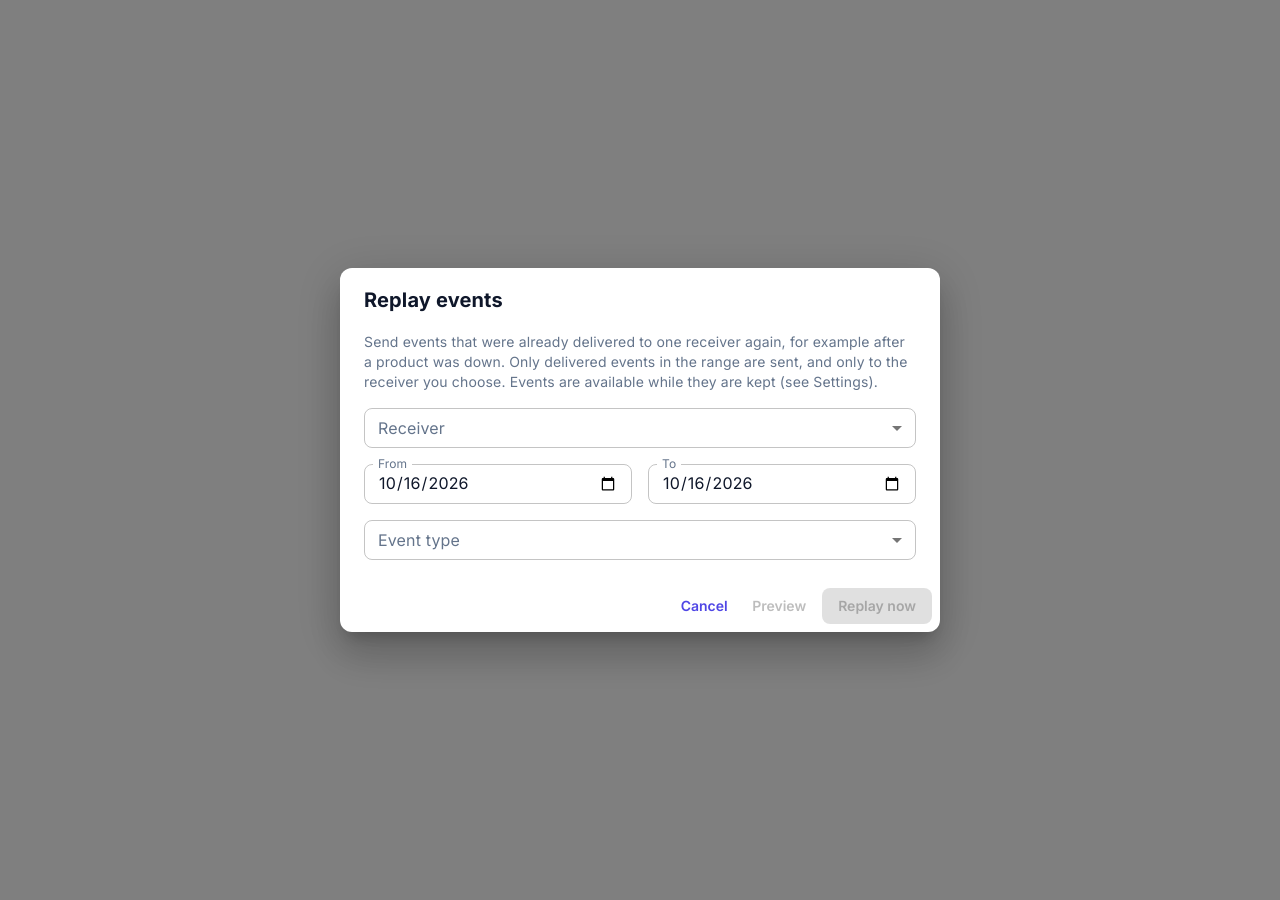
Scenario: EventReplayDialog › previews the size of a replay and then sends it to the chosen receiver
Expected: the button "Replay now" is disabled, [822,588,932,624]
Click the 1st dropdown named "Receiver" at (640, 428), box [364,408,916,448]
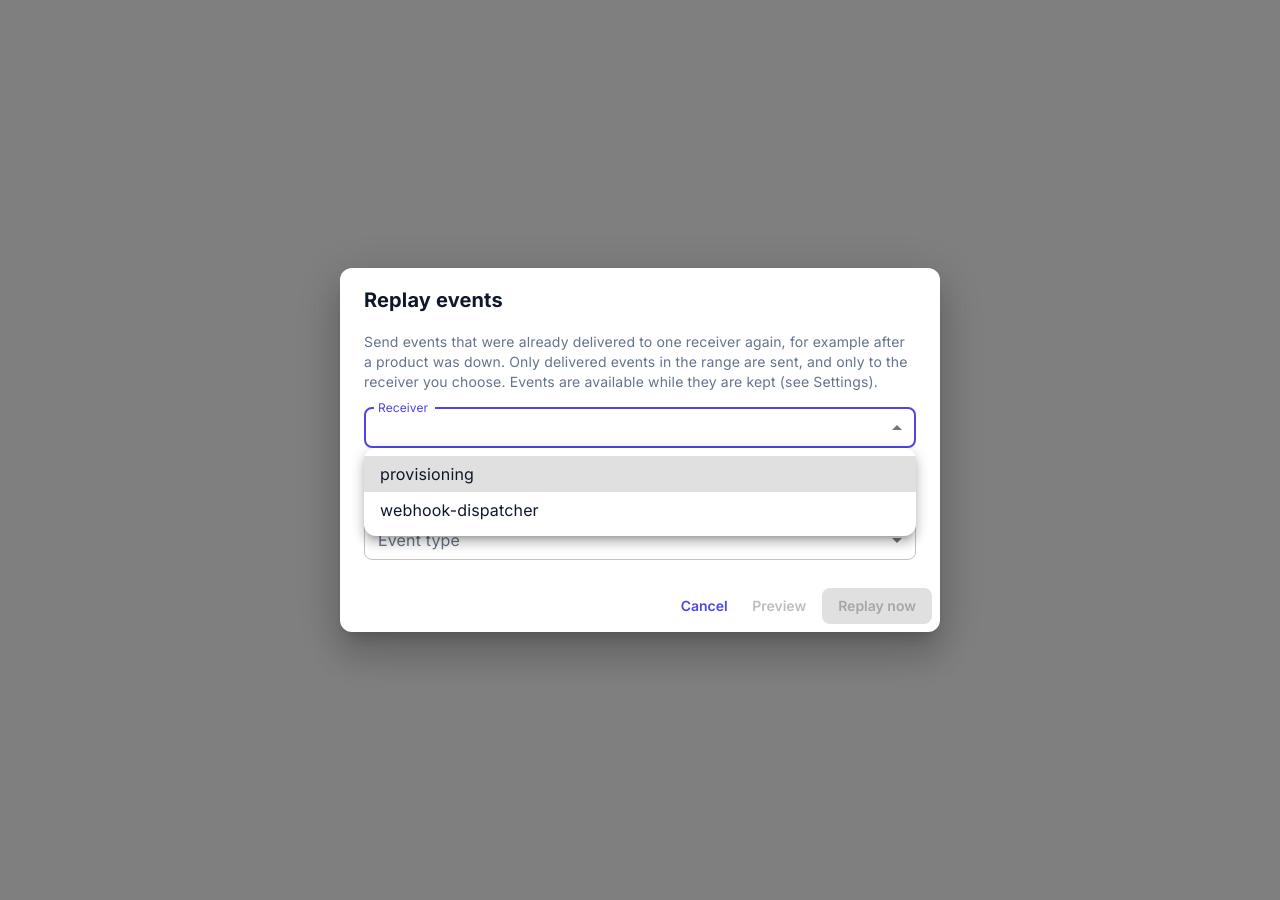
Click the option "provisioning" at (427, 474), box [364,456,916,492]
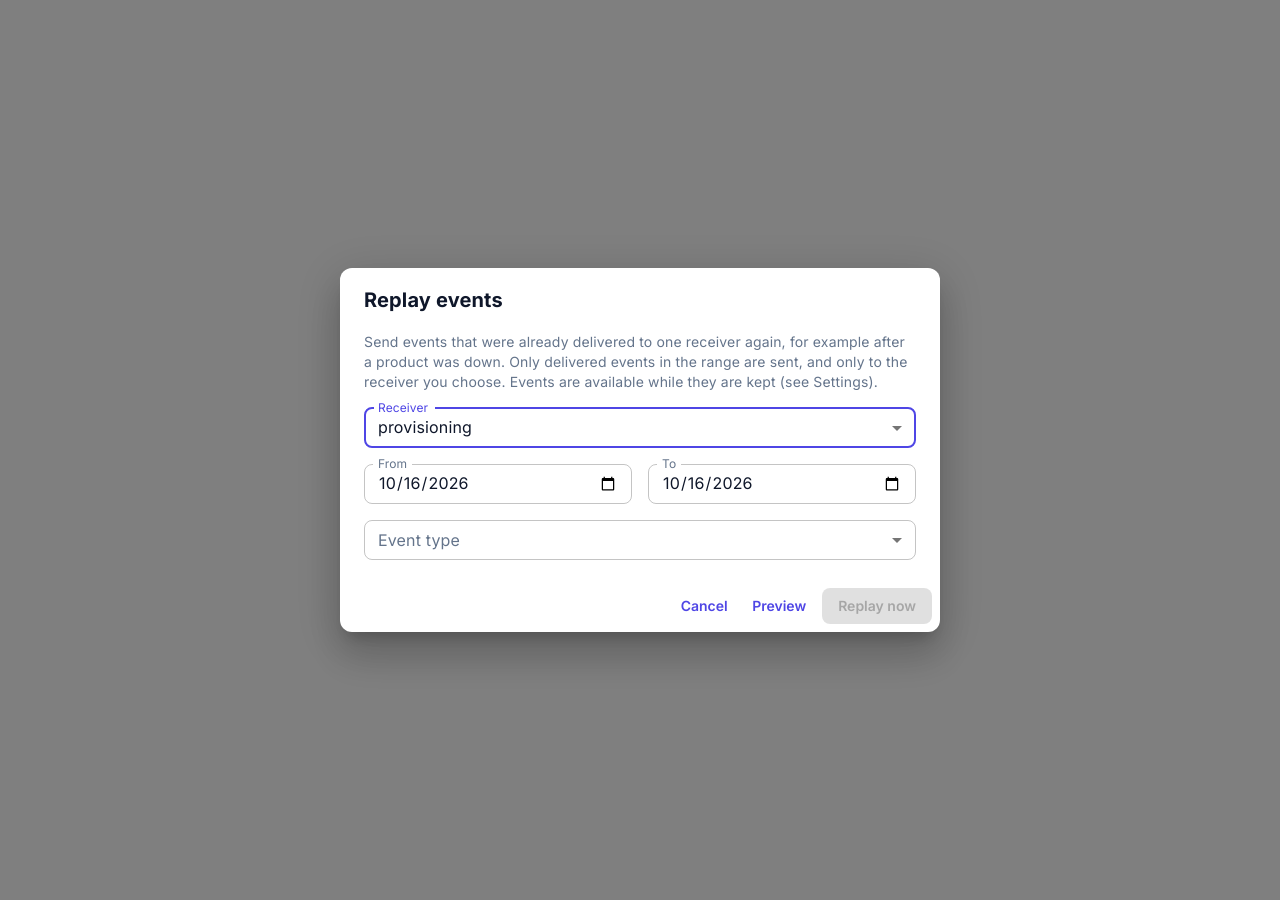
Click the button "Preview" at (779, 606), box [744,588,814,624]
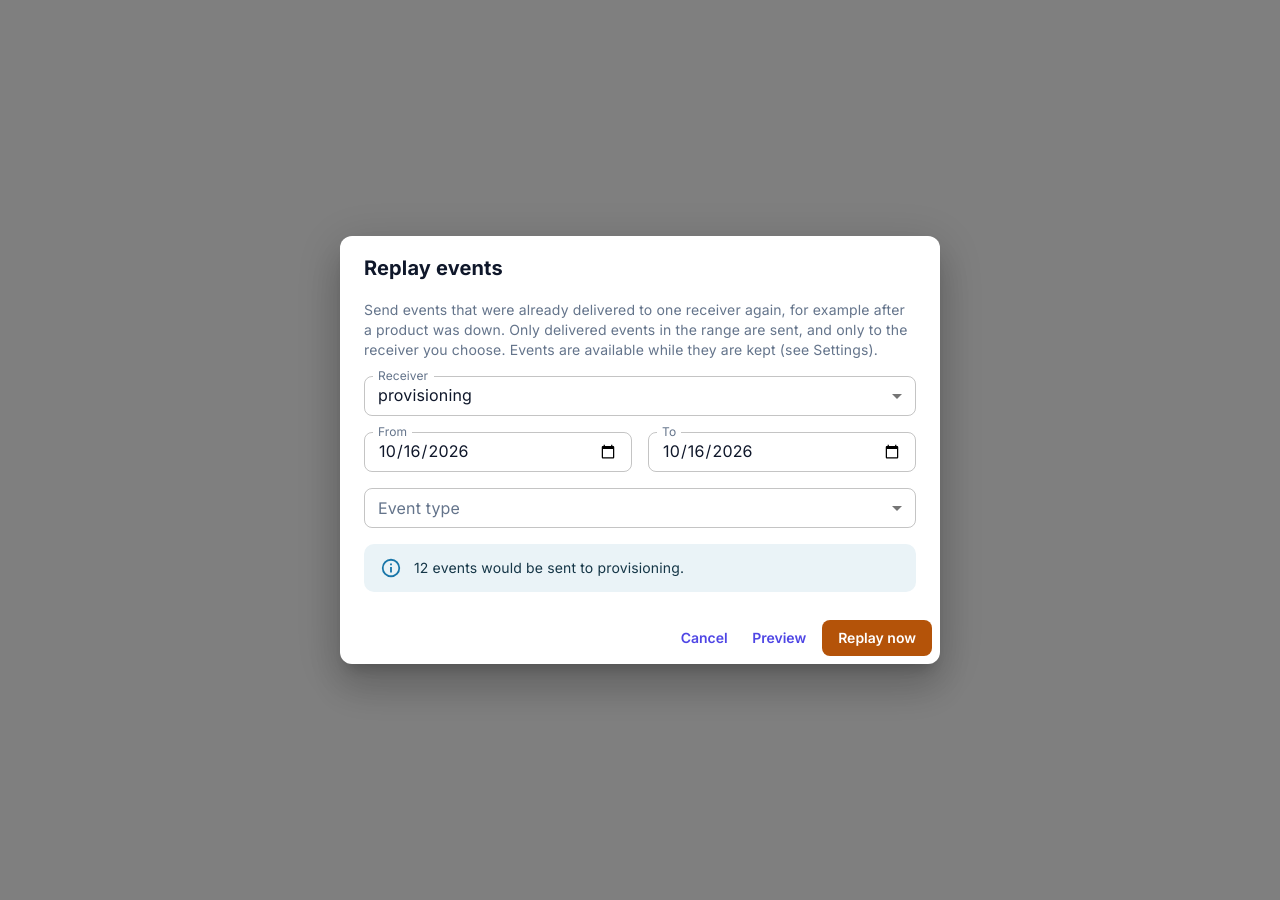
Expected: the text "12 events would be sent to provisioning." is shown, [414,559,684,576]
Click the button "Replay now" at (877, 638), box [822,620,932,656]
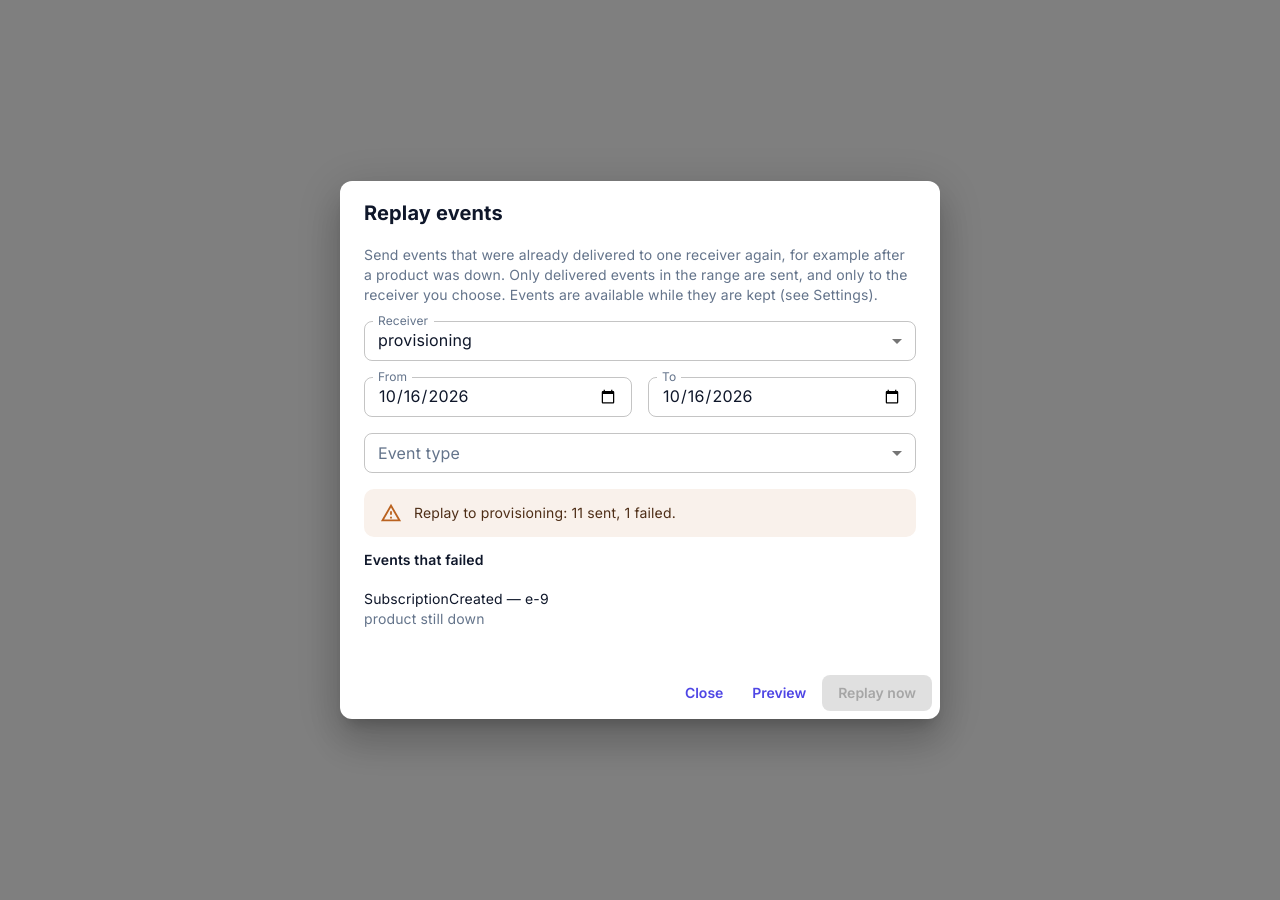
Expected: the text "Replay to provisioning: 11 sent, 1 failed." is shown, [414,504,676,521]
Expected: the text "product still down" is shown, [364,610,485,627]
Expected: the button "Replay now" is disabled, [822,675,932,711]
